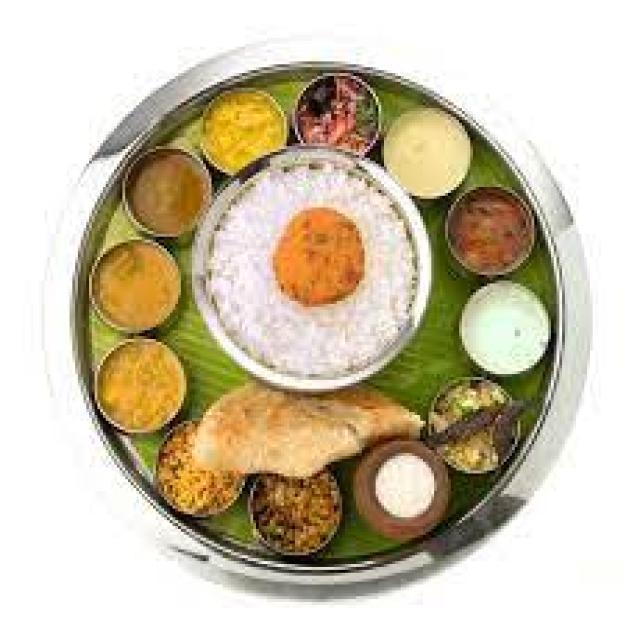curd: (450, 275, 561, 379), (351, 440, 461, 528)
dal: (381, 106, 479, 198), (87, 243, 187, 330), (195, 89, 285, 170)
papad: (172, 379, 436, 487)
pickle: (210, 165, 436, 379), (442, 192, 539, 272)
rice: (192, 162, 429, 374)
sambar-rasam: (92, 339, 188, 433), (120, 142, 212, 239), (89, 241, 185, 331), (443, 194, 535, 273)
sweet: (350, 433, 460, 534)
